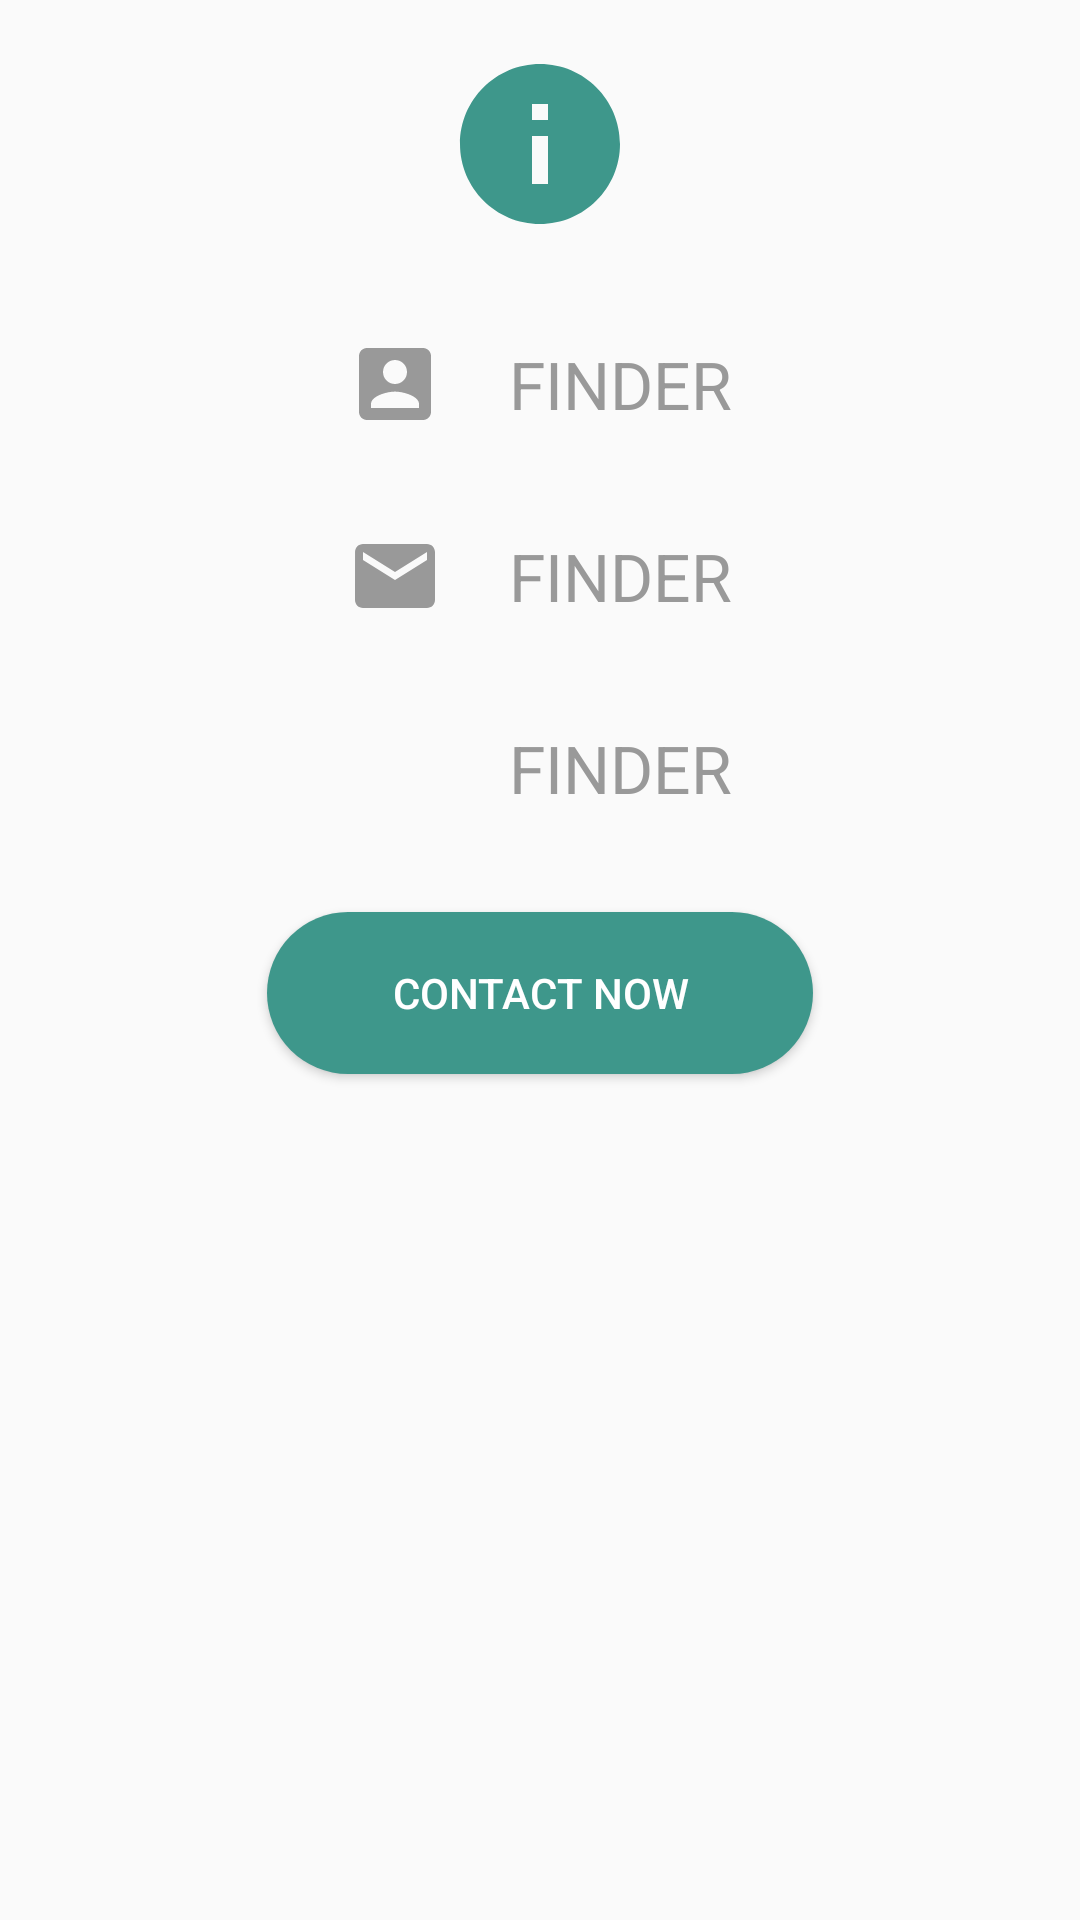

Locate icon controls on the screen. Image size 1080w x 1920h, boxes as (x1, y1, x2, y2).
account box: (359, 348, 431, 420)
info: (460, 64, 620, 224)
mail: (355, 544, 435, 608)
